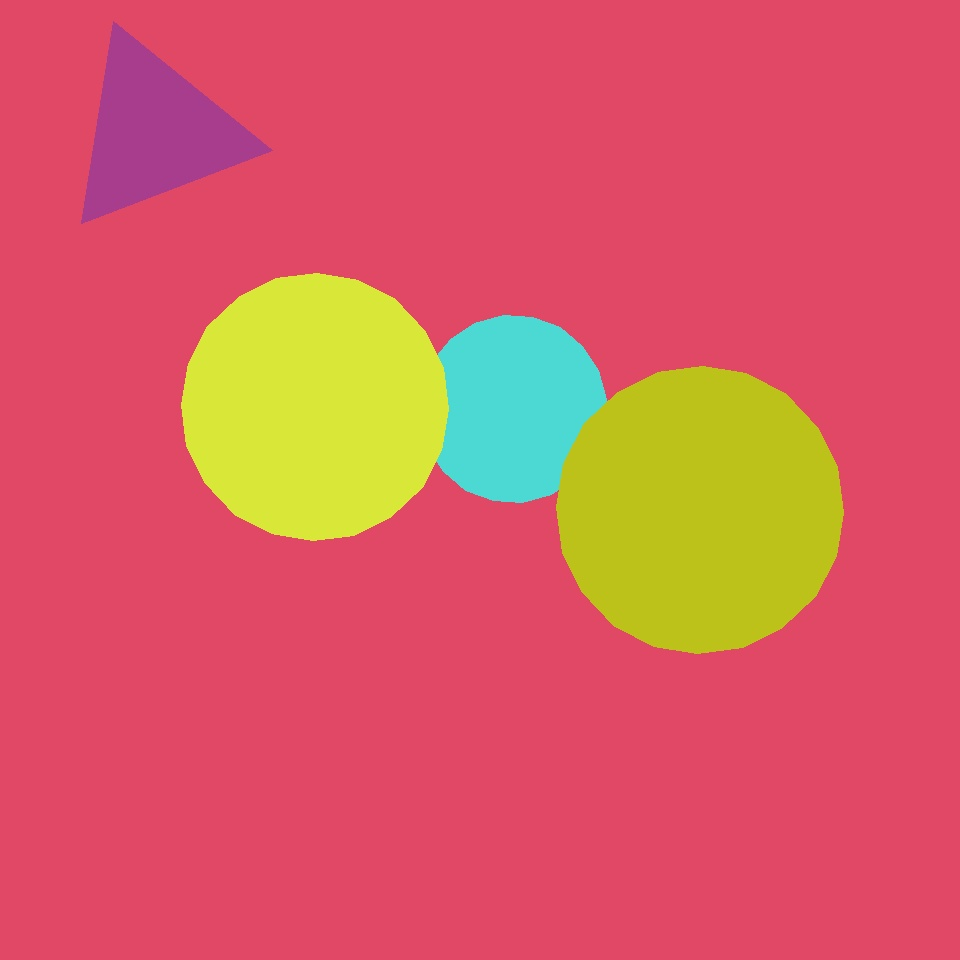circle: (61, 31, 252, 233), (618, 563, 806, 751), (598, 544, 727, 661), (812, 562, 943, 675)
triangle: (556, 366, 844, 654), (182, 274, 448, 540), (569, 108, 782, 322), (420, 316, 606, 502)
